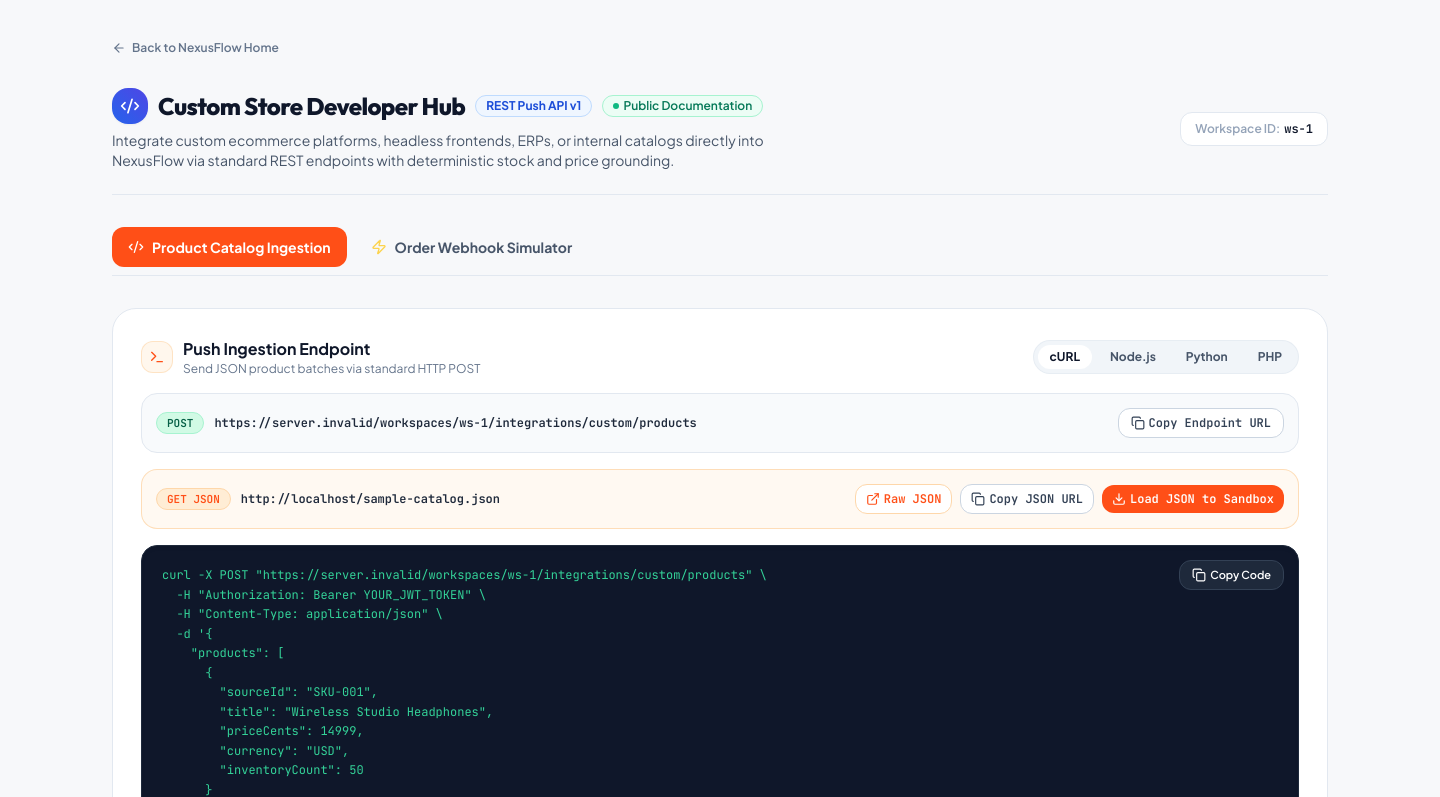
Test case: Order Webhook Simulator & Social Token Refresh UI › Developer Hub: Order Webhook Simulator › switches to Order Webhook Simulator tab and renders simulation controls
The image size is (1440, 797).
Check: the text "Order Webhook Simulator" is shown, box [395,237,572,257]
Click the button "Order Webhook Simulator" at (471, 247), box [355,227,588,267]
(page scrolled)
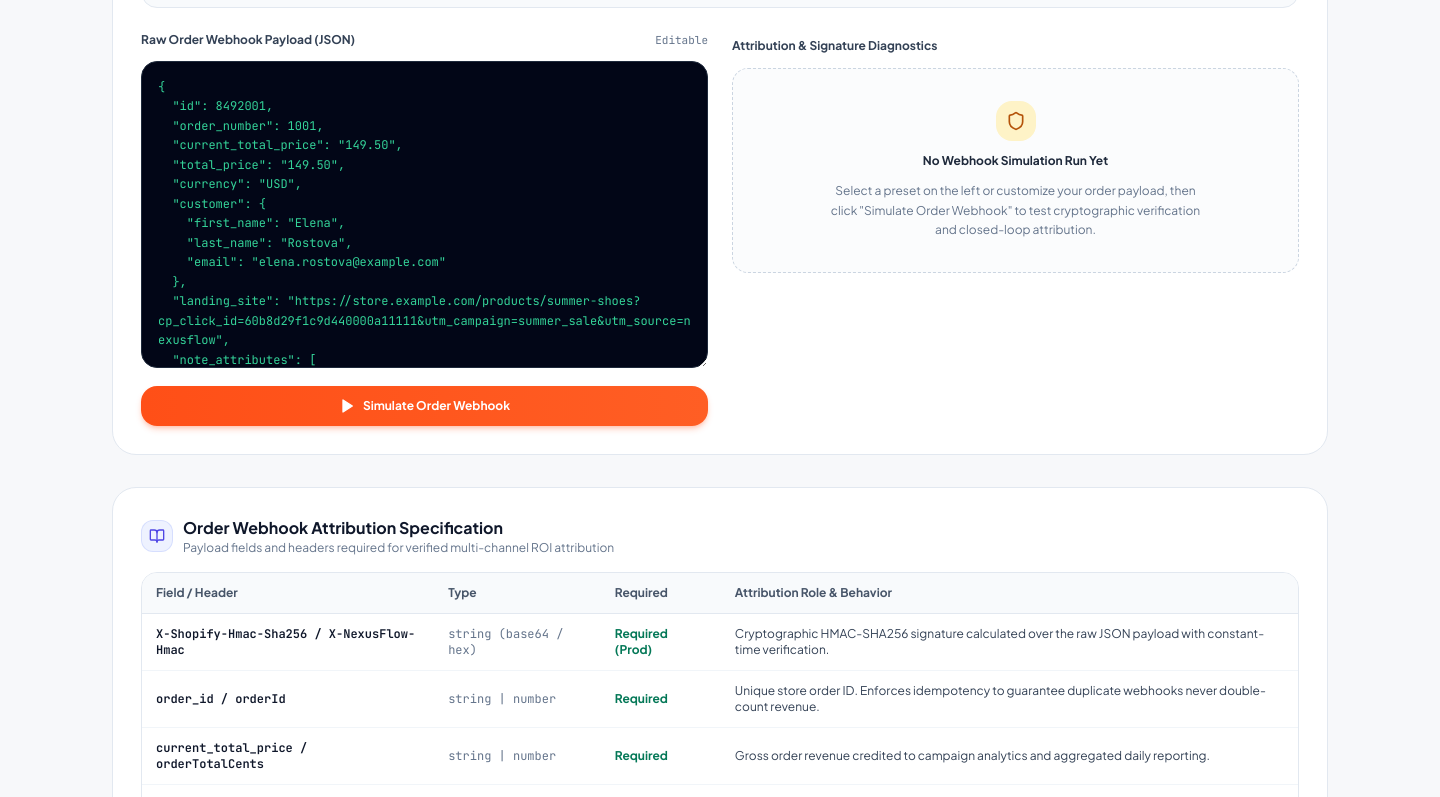
Check: the heading "Order Webhook Attribution Specification" is shown, box [183,516,503,538]
Check: the text "Simulate Order Webhook" is shown, box [363,398,510,414]
